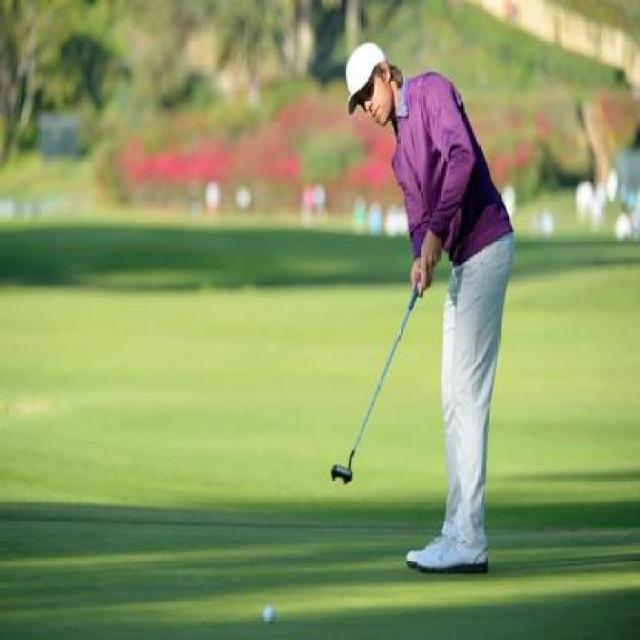club head: (329, 454, 354, 486)
